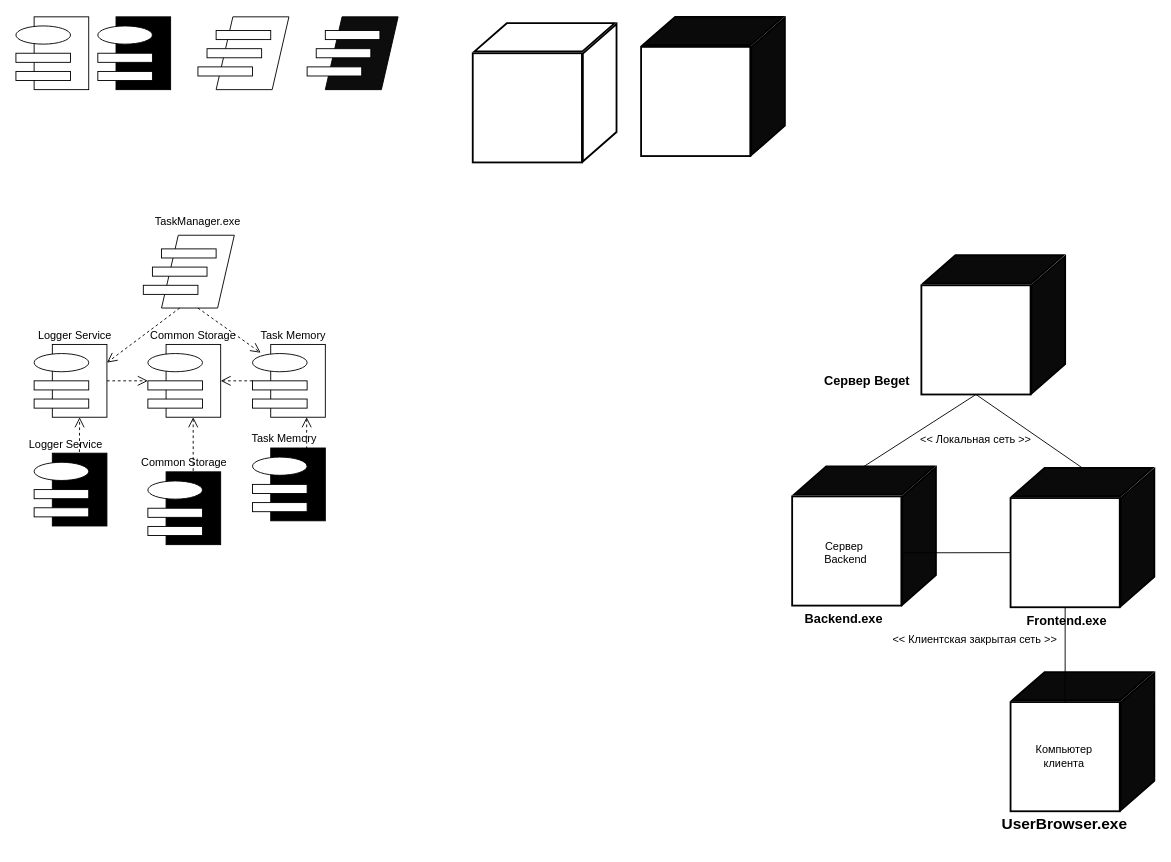
The diagram is 1171 pixels wide and 862 high, and some of its shapes have lost their labels. Each missing label, with the centre of its shape:
"Сервер Frontend" belongs at pixel 1064 552.
"Сервера развёртывания архитектуры" belongs at pixel 975 339.
